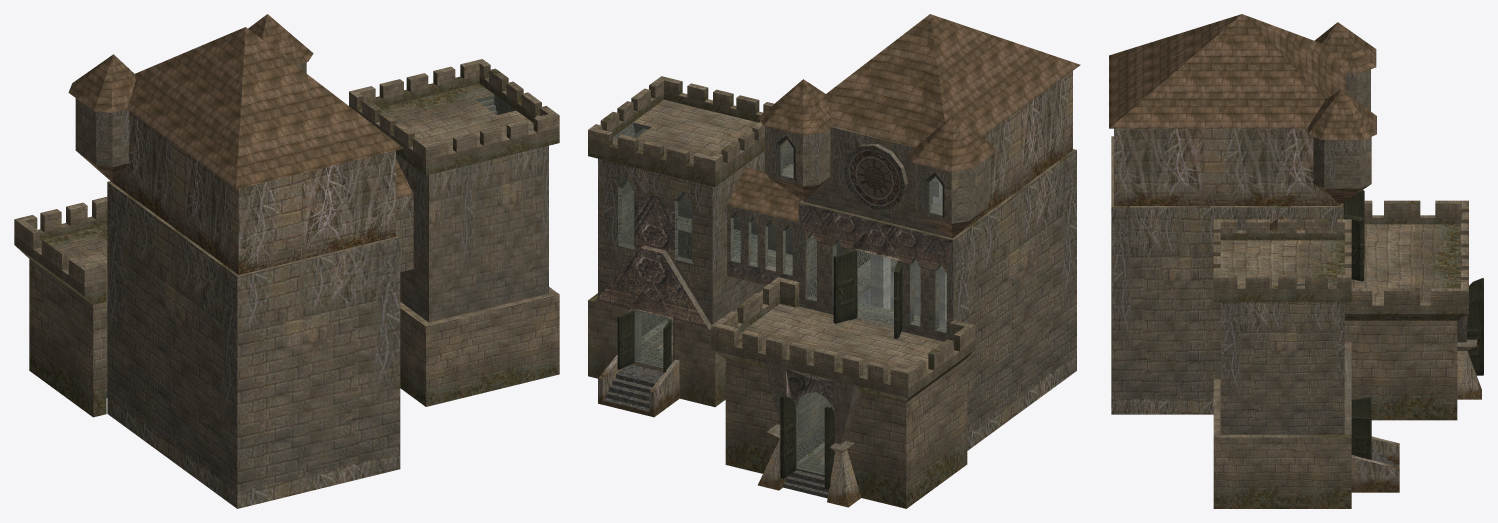
The model's file is Meria.glb.
3 renders of one model, left to right at view 1: azimuth 30°, elevation 25°; view 2: azimuth 150°, elevation 25°; view 3: azimuth 270°, elevation 25°, orthographic. The views are drawn at different scales.
Visible parts, largest first — view 1: Meria-col; view 2: Meria-col; view 3: Meria-col.
Boxes of the visible parts, bbox=[...] form: Meria-col: bbox=[14, 14, 559, 508]; Meria-col: bbox=[588, 14, 1080, 508]; Meria-col: bbox=[1109, 14, 1483, 508].
Size of the model in its own units: 18.98 by 18.12 by 16.87.
Materials: 21 (21 with a texture image).
